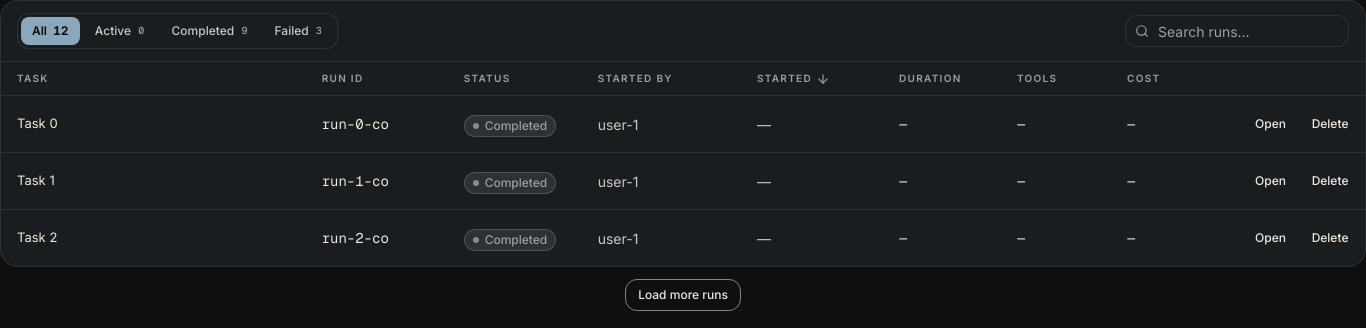
Test: Agent runs tab › filters on the server and counts from the server totals
Expected: the button "All 12" is shown, [21,17,80,45]
Click the button "Failed 3".
click(298, 31)  # box [263,17,334,45]
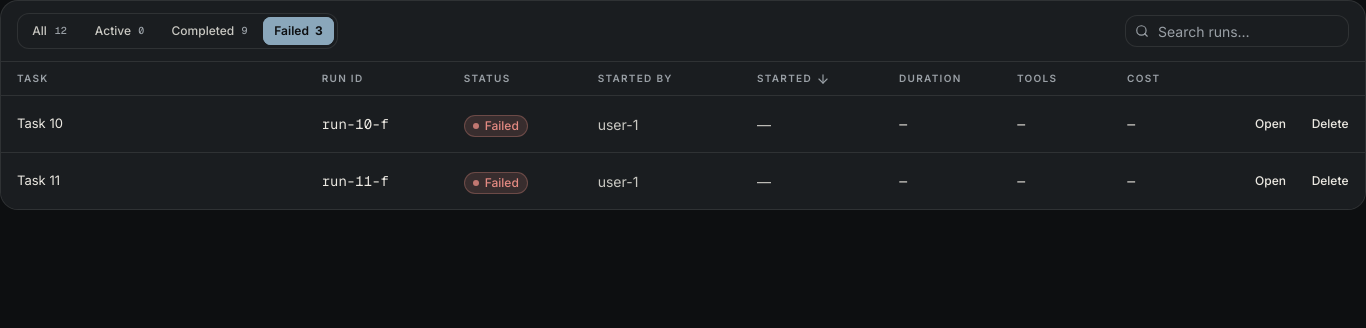
Expected: the text "Task 11" is shown, [17,172,60,190]
Expected: the text "Task 0" is gone
Expected: the button "Load more runs" is gone
